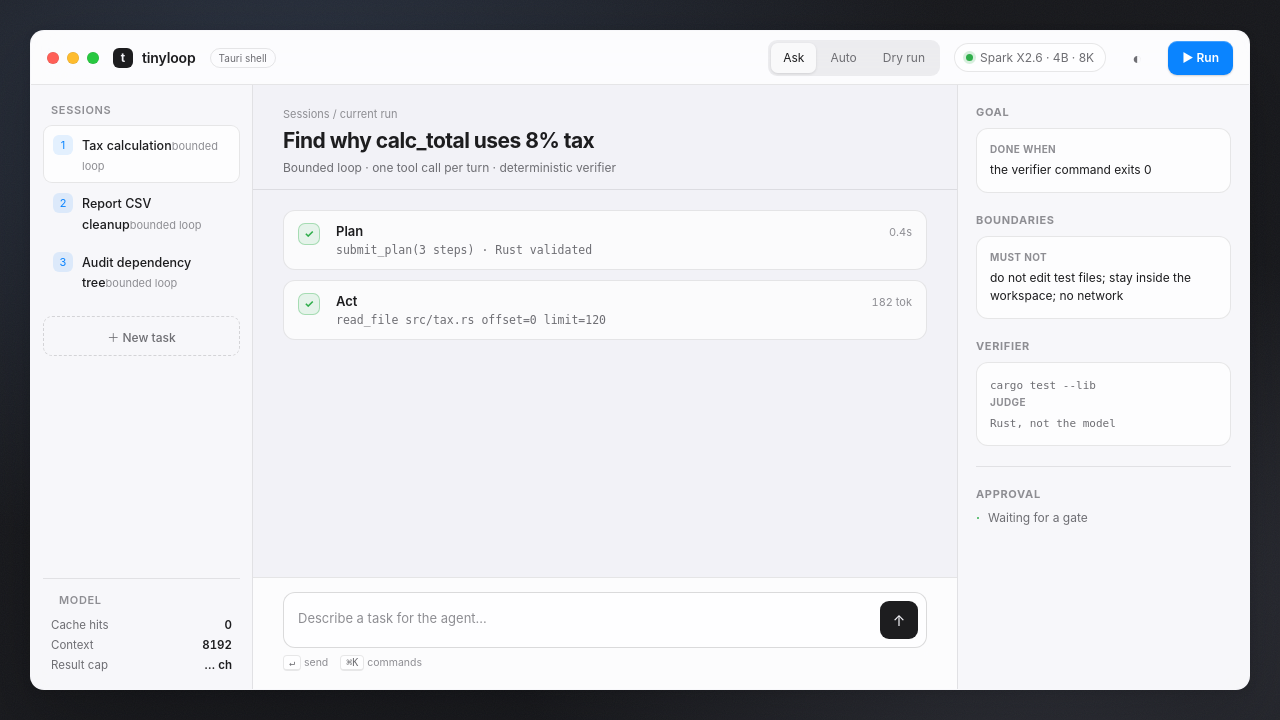
Test: tinyloop desktop shell (browser preview) › drives the prototype timeline from composer to verified state
Type "fix the tax bug" into the text box with test id "task-input" at (584, 620), box x1=298 y1=601 x2=870 y2=639
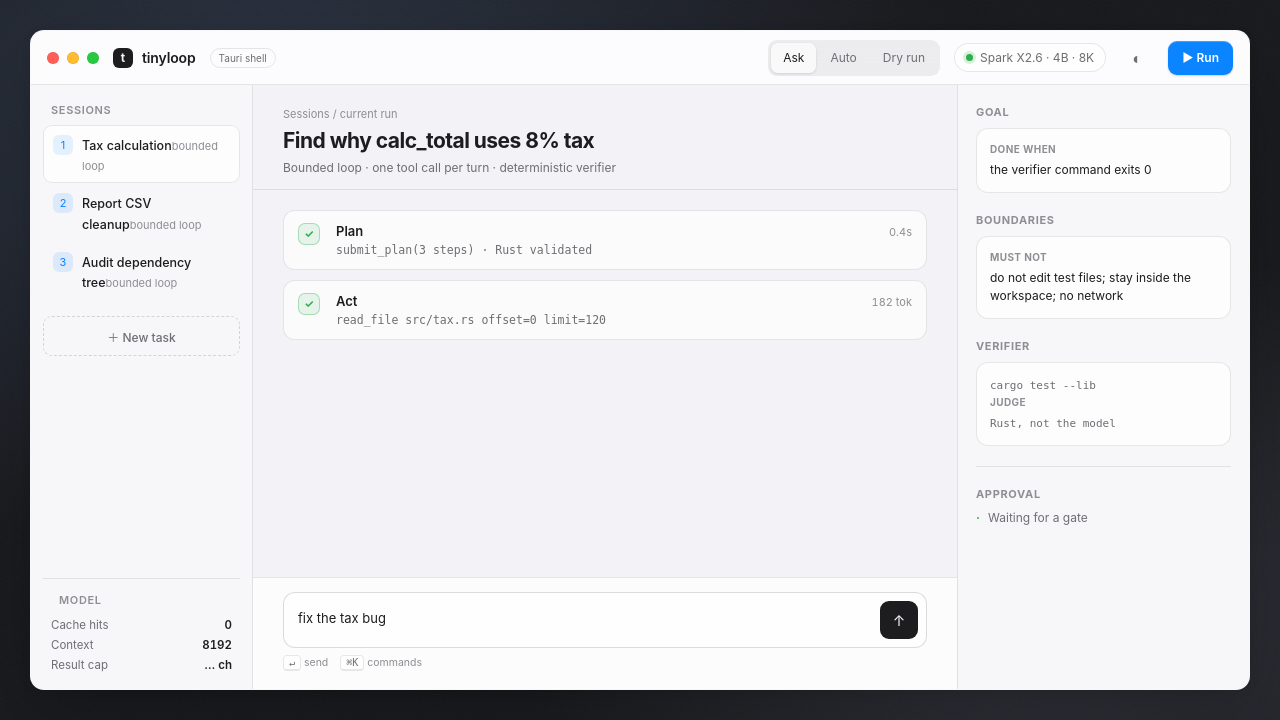
Click the button with test id "run-button" at (1201, 58), box x1=1168 y1=40 x2=1233 y2=74
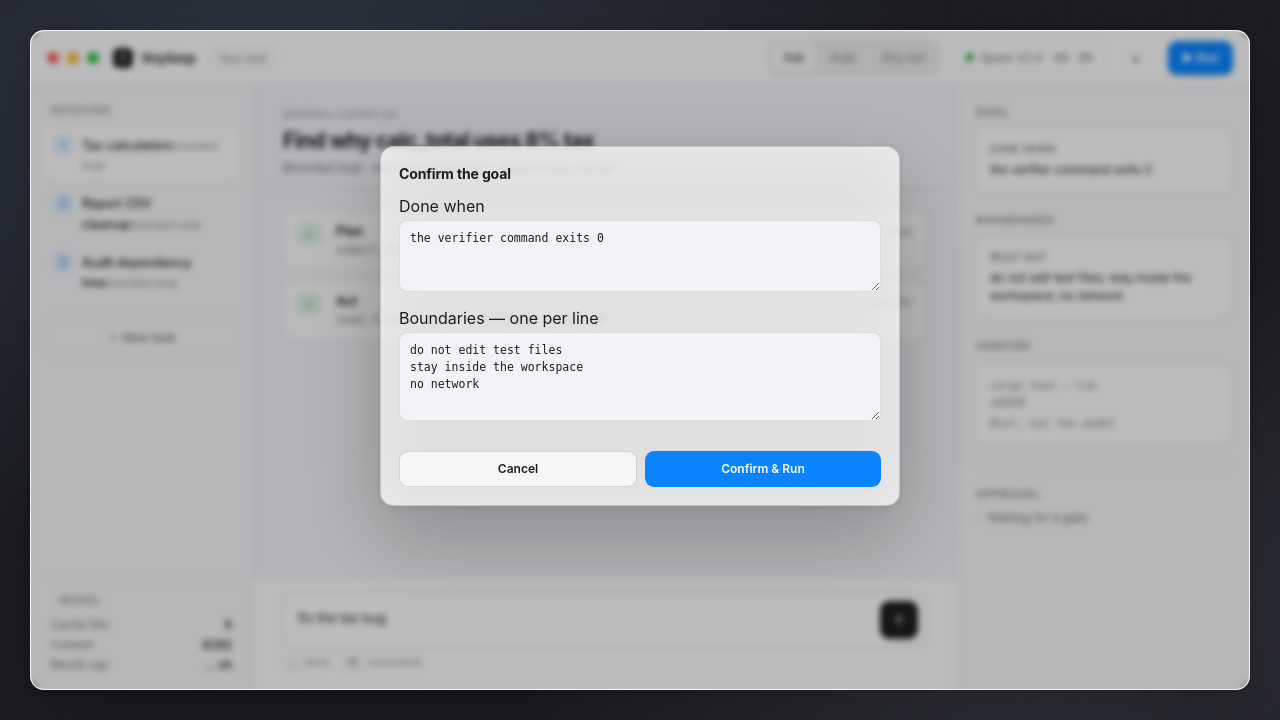
Click the button with test id "clarify-confirm" at (763, 469), box x1=645 y1=451 x2=881 y2=487
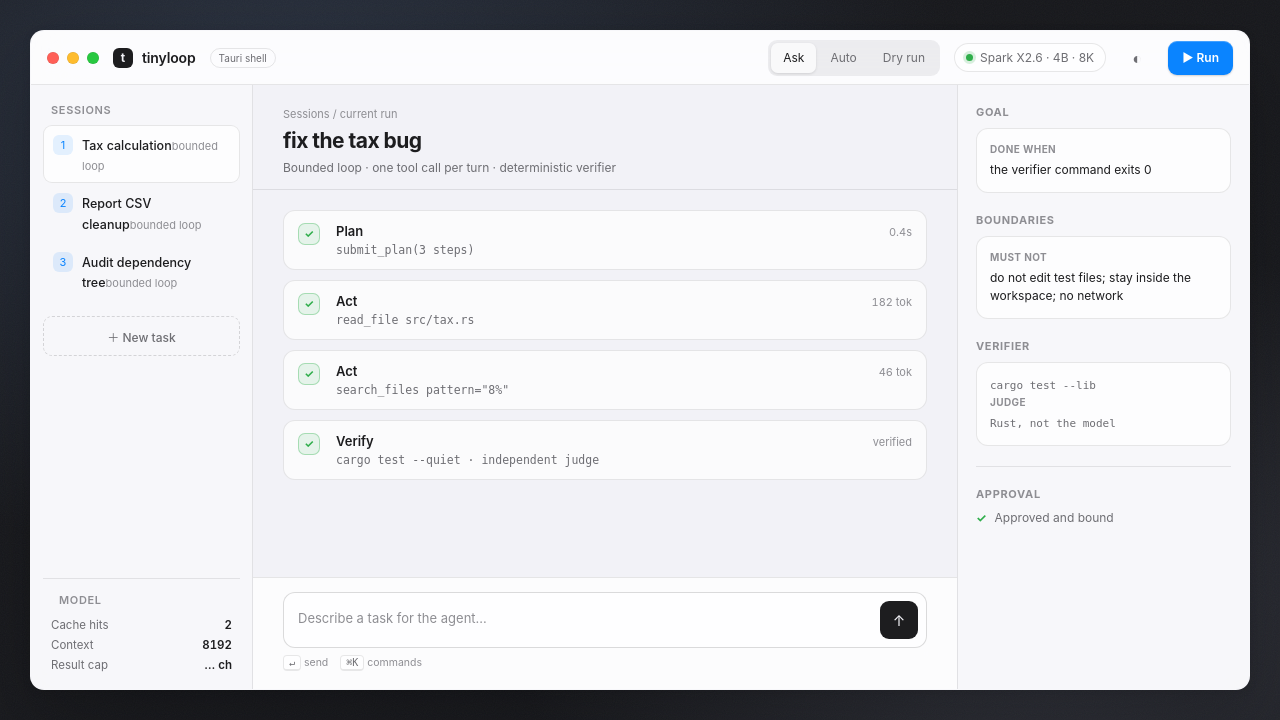
Expected: the text "Verify" is shown, x1=336 y1=433 x2=374 y2=449
Expected: the text "Approved and bound" is shown, x1=995 y1=510 x2=1114 y2=525
